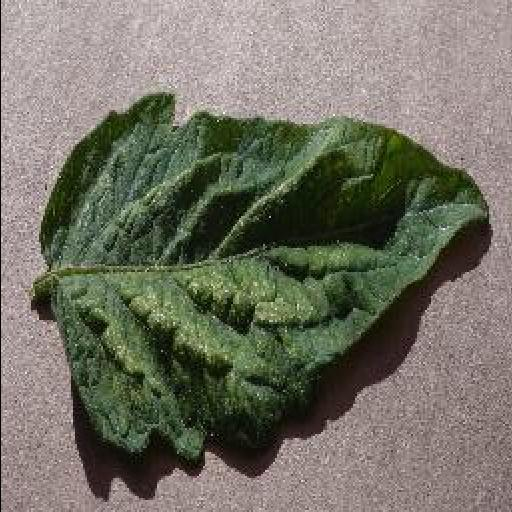disease_tomato: (38, 94, 492, 458)
